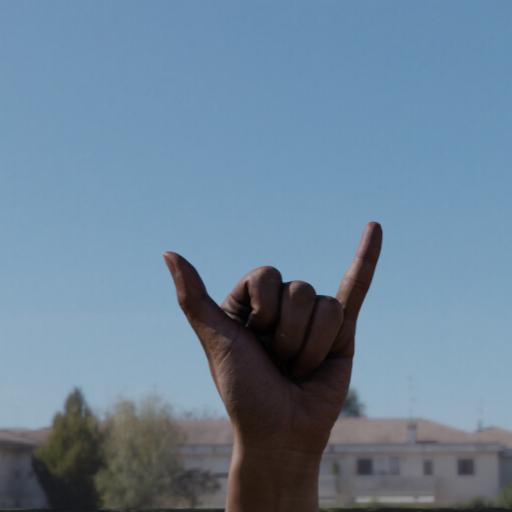Y: (150, 214, 407, 501)
